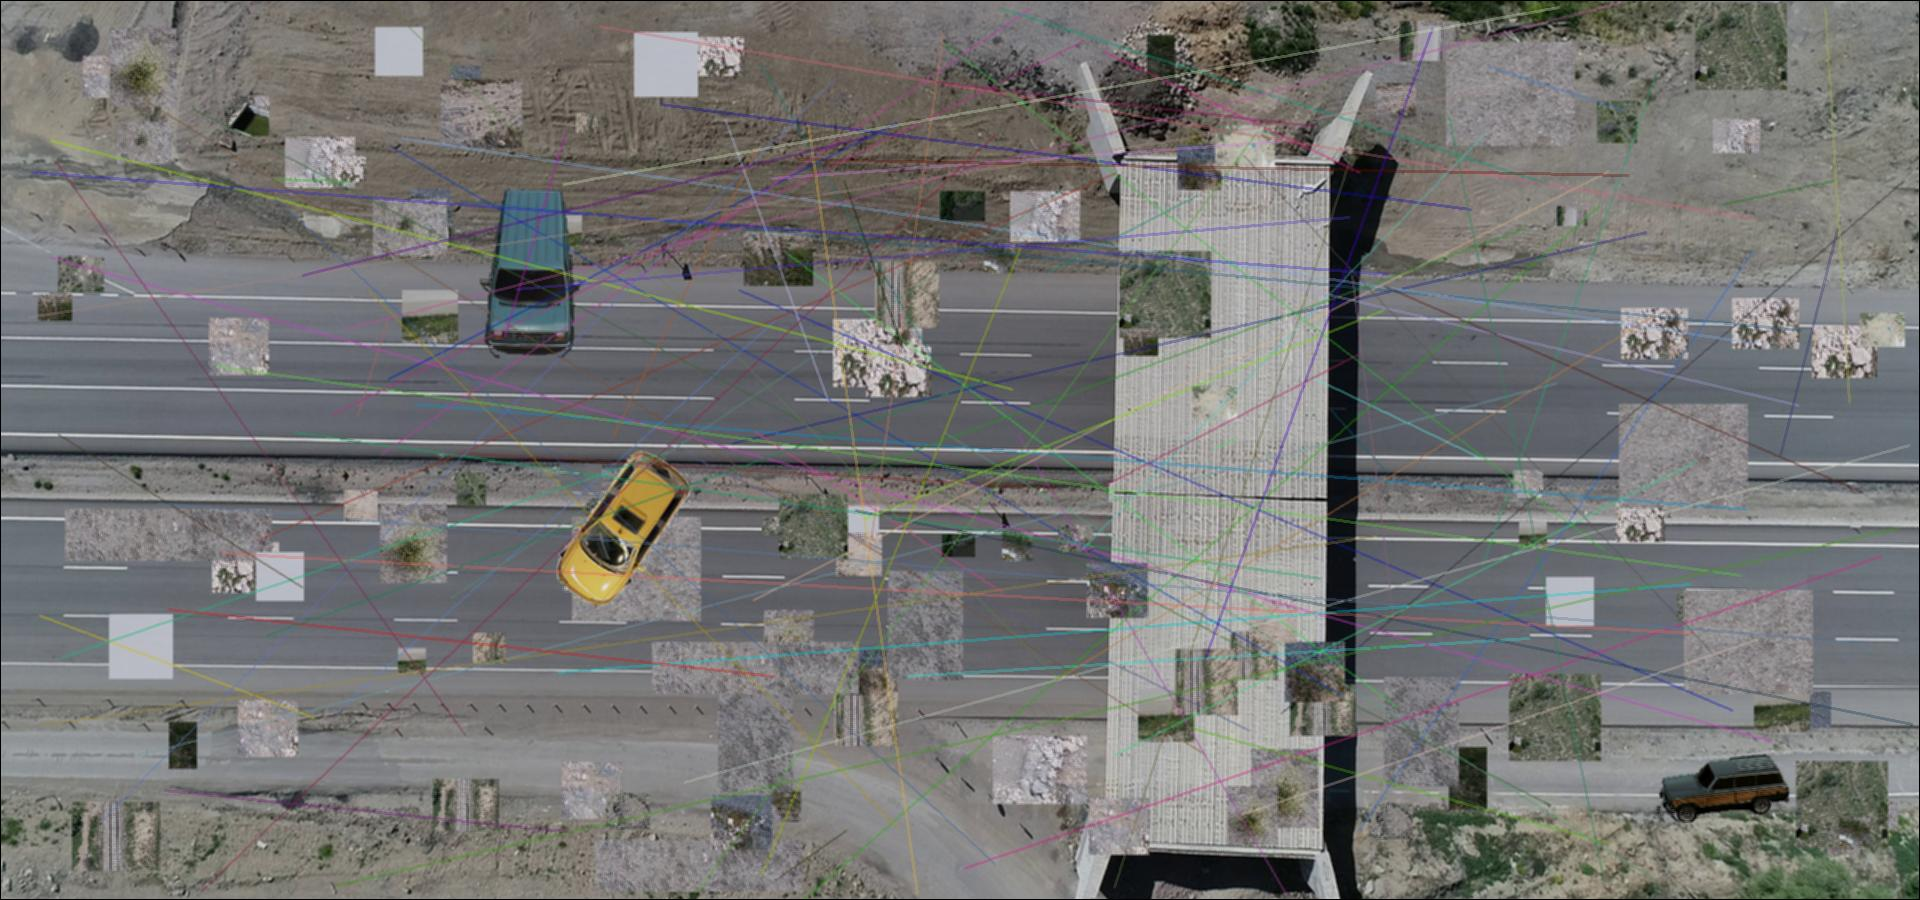arac: (552, 448, 696, 609), (467, 184, 585, 358), (1653, 752, 1789, 822)
